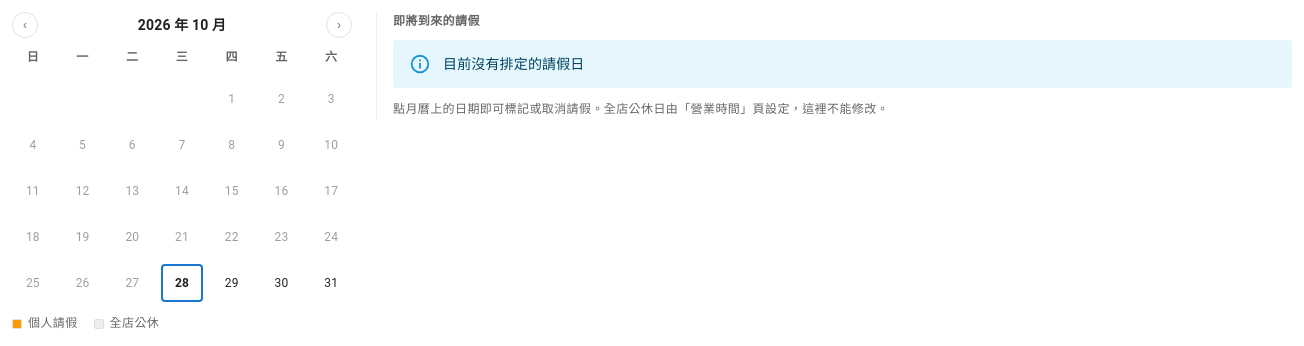
Test case: DesignerLeavesTab › 點未來日期且沒有受影響預約：直接新增，不跳警告，成功後重讀並回報新天數
The image size is (1304, 346).
What coordinates should you click on to do the following:
click the button named "下個月"
I would click on:
 (339, 25)
Its box is [326,12,352,38].
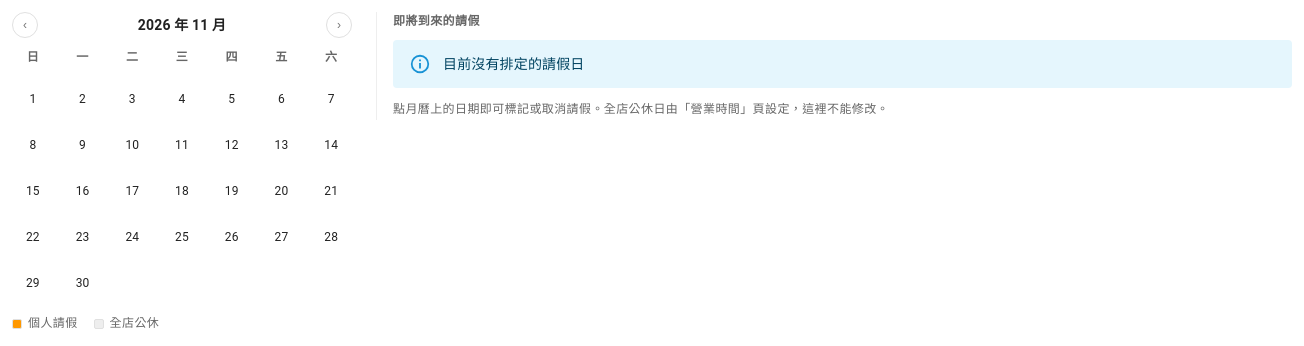
What coordinates should you click on to do the following:
click the button "15"
I would click on:
 (33, 191)
Its box is [12,172,54,210].
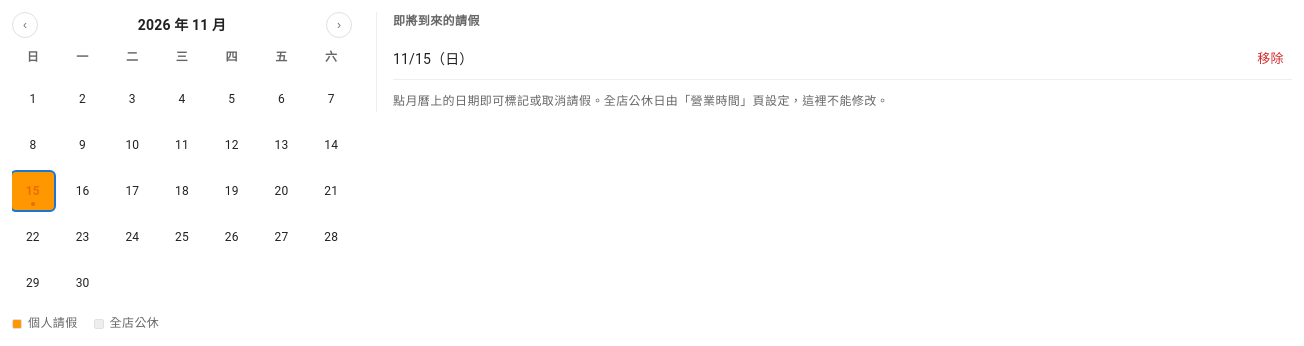
expect the number of buttons "移除" is 1: met, box [1249,44,1292,75]
